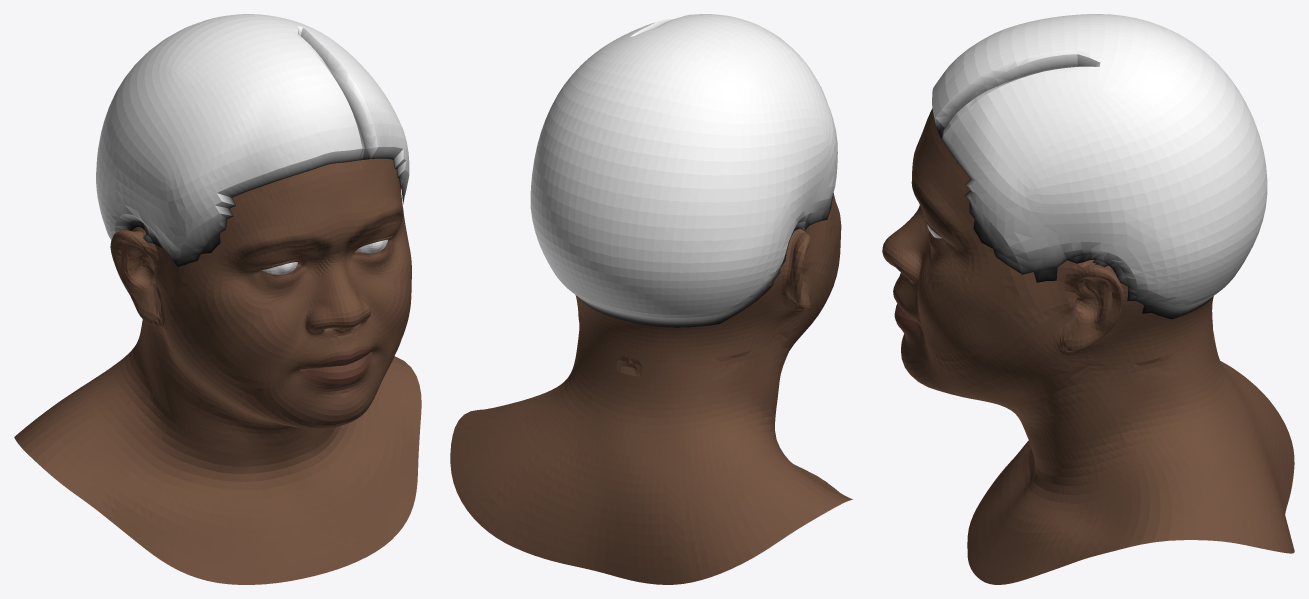
File: deepak.glb
3 renders of one model, left to right at view 1: azimuth 30°, elevation 25°; view 2: azimuth 150°, elevation 25°; view 3: azimuth 270°, elevation 25°, orthographic. The views are drawn at different scales.
Visible parts, largest first — view 1: gnm_head; view 2: gnm_head; view 3: gnm_head.
Part boxes in pixels (x1=…): gnm_head: x1=14, y1=14, x2=421, y2=584; gnm_head: x1=450, y1=14, x2=852, y2=584; gnm_head: x1=882, y1=14, x2=1294, y2=584.
Size of the model in its own units: 0.2666 by 0.3388 by 0.2435.
